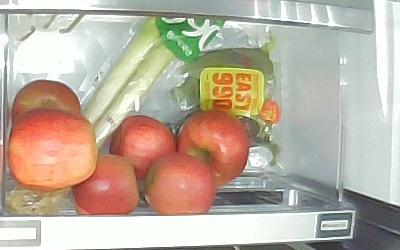apple: (8, 108, 97, 189), (176, 109, 249, 186), (108, 116, 178, 179), (144, 153, 214, 211), (74, 153, 138, 212), (11, 80, 81, 120)
